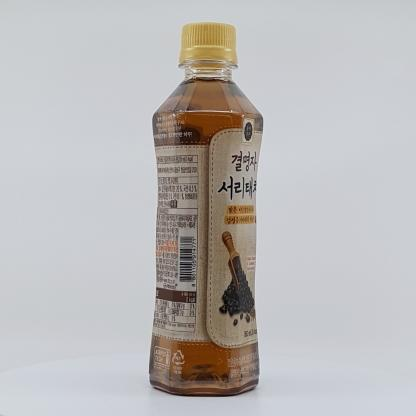----------350ML: (149, 22, 263, 396)
